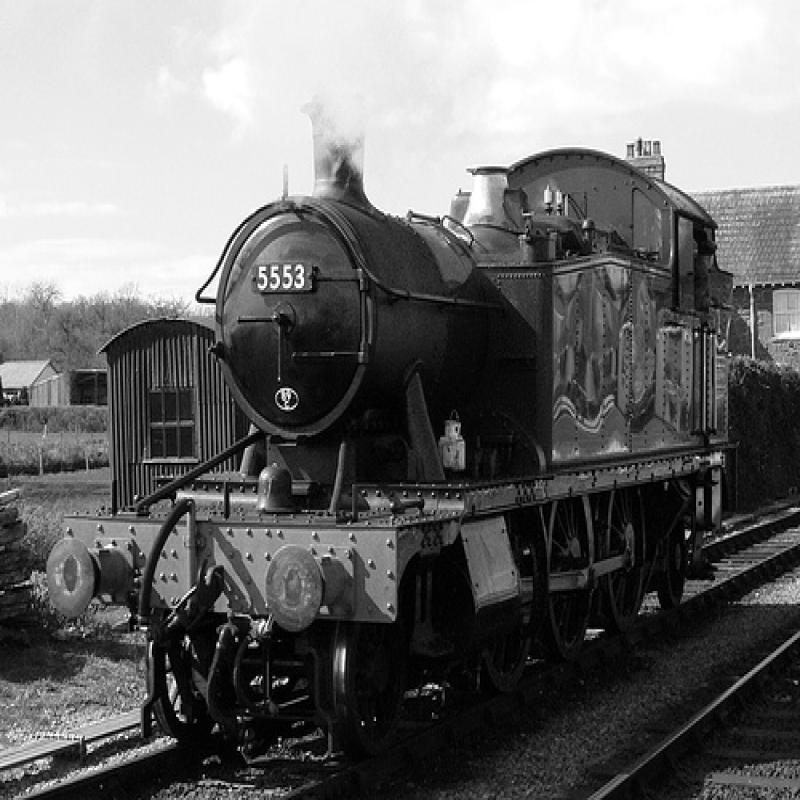train: (44, 93, 737, 769)
